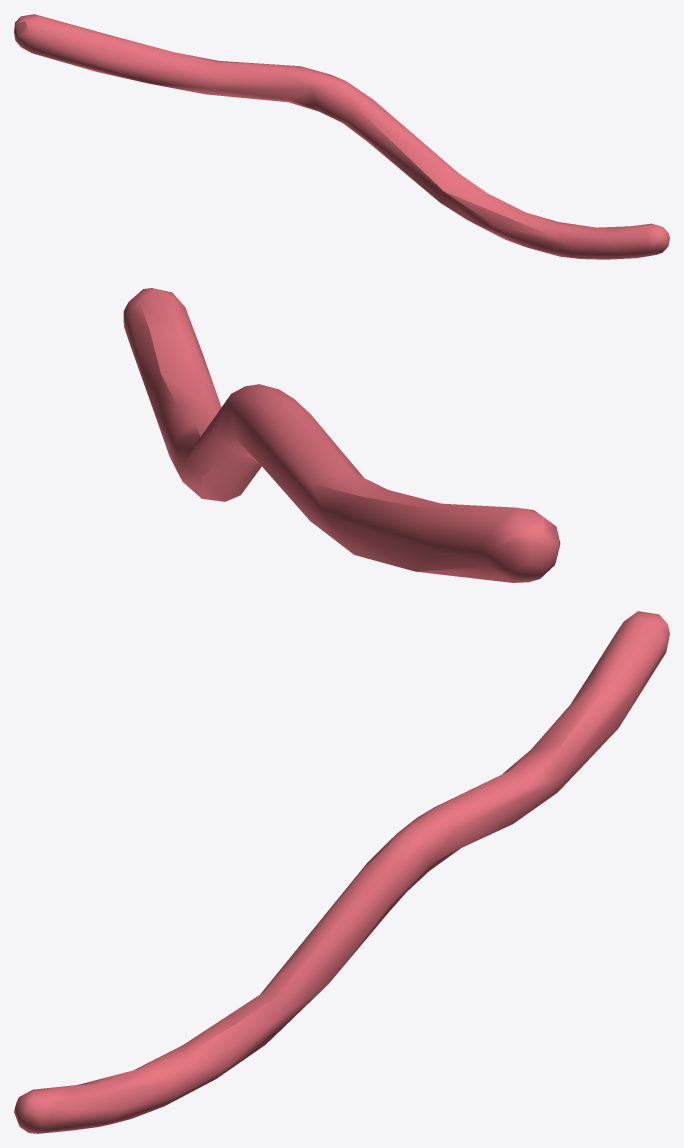
File: fma15804_fj4541.glb
3 renders of one model, top to bottom at view 1: azimuth 30°, elevation 25°; view 2: azimuth 150°, elevation 25°; view 3: azimuth 270°, elevation 25°, orthographic. The views are drawn at different scales.
Visible parts, largest first — view 1: FMA15804_FJ4541; view 2: FMA15804_FJ4541; view 3: FMA15804_FJ4541.
Part boxes in pixels (x1=…): FMA15804_FJ4541: x1=14, y1=14, x2=669, y2=259; FMA15804_FJ4541: x1=123, y1=288, x2=560, y2=582; FMA15804_FJ4541: x1=14, y1=611, x2=669, y2=1133.
Bounding box in the file's own units: 0.012 × 0.00502 × 0.0113.
